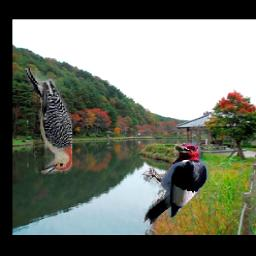Woodpecker: (138, 139, 209, 227), (25, 68, 72, 174)
